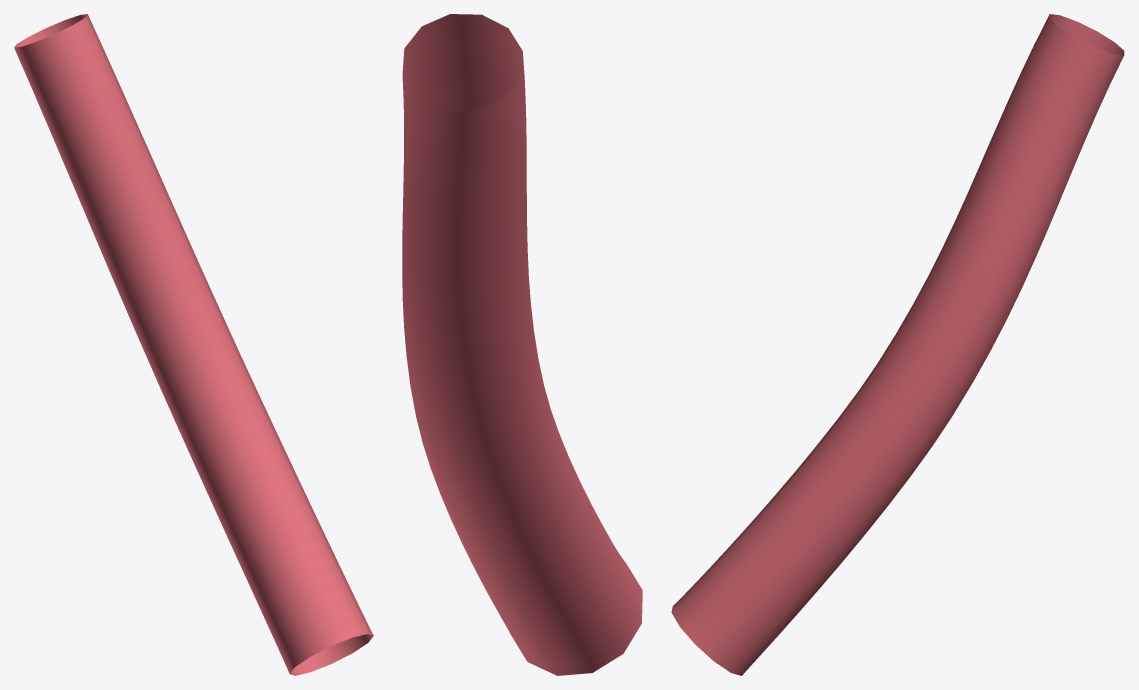
The picture shows the model from 3 angles, left to right: view 1: azimuth 30°, elevation 25°; view 2: azimuth 150°, elevation 25°; view 3: azimuth 270°, elevation 25°; orthographic projection. The views are drawn at different scales.
Parts seen in each view (by area): view 1: ZA_c70dee62b316f617; view 2: ZA_c70dee62b316f617; view 3: ZA_c70dee62b316f617.
Part boxes in pixels (box(x1,y1,x2,y2)): ZA_c70dee62b316f617: box(14, 14, 373, 675); ZA_c70dee62b316f617: box(402, 14, 642, 675); ZA_c70dee62b316f617: box(671, 14, 1124, 675).
Size of the model in its own units: 0.00878 by 0.0268 by 0.0183.
